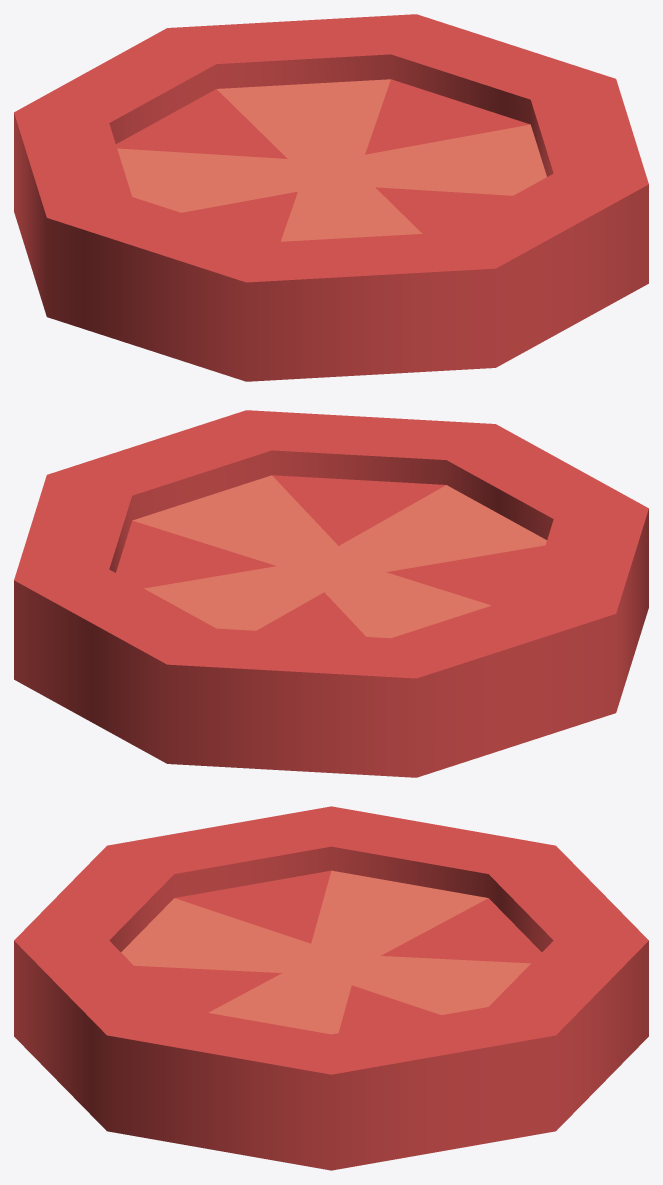
The model's file is tomatoSlice.GLB.
3 views of the same model, one above another, from view 1: azimuth 30°, elevation 25°; view 2: azimuth 150°, elevation 25°; view 3: azimuth 270°, elevation 25° (orthographic). The views are drawn at different scales.
Parts seen in each view (by area): view 1: tomatoSlice; view 2: tomatoSlice; view 3: tomatoSlice.
Boxes of the visible parts, x1,y1,x2,y2 form: tomatoSlice: (14, 14, 648, 381); tomatoSlice: (14, 410, 648, 777); tomatoSlice: (14, 806, 648, 1170).
Size of the model in its own units: 0.18 by 0.03 by 0.18.
